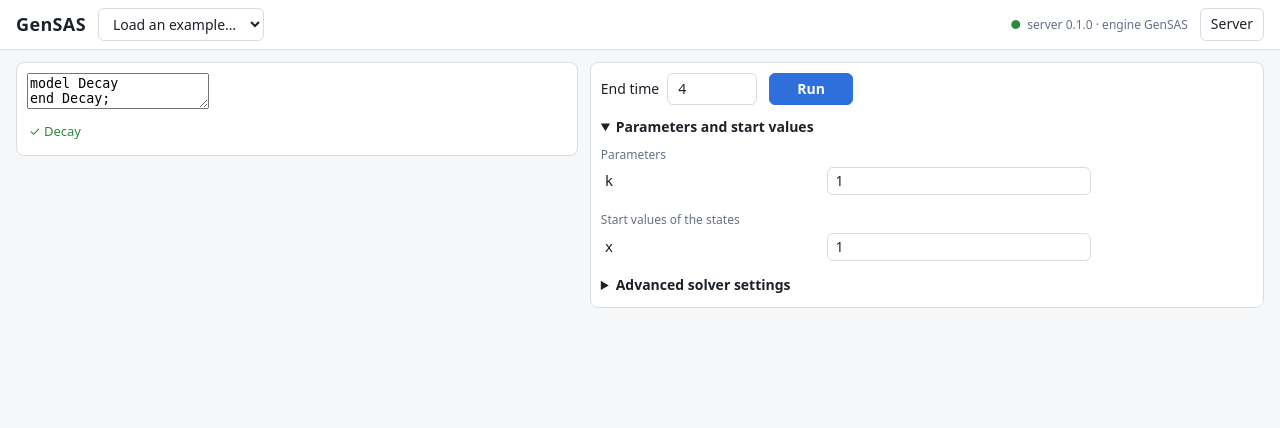
Test: App › shows why a run failed
Step 1. Click the button "Run" → [811, 89], box top-left (769, 73), bottom-right (853, 105)
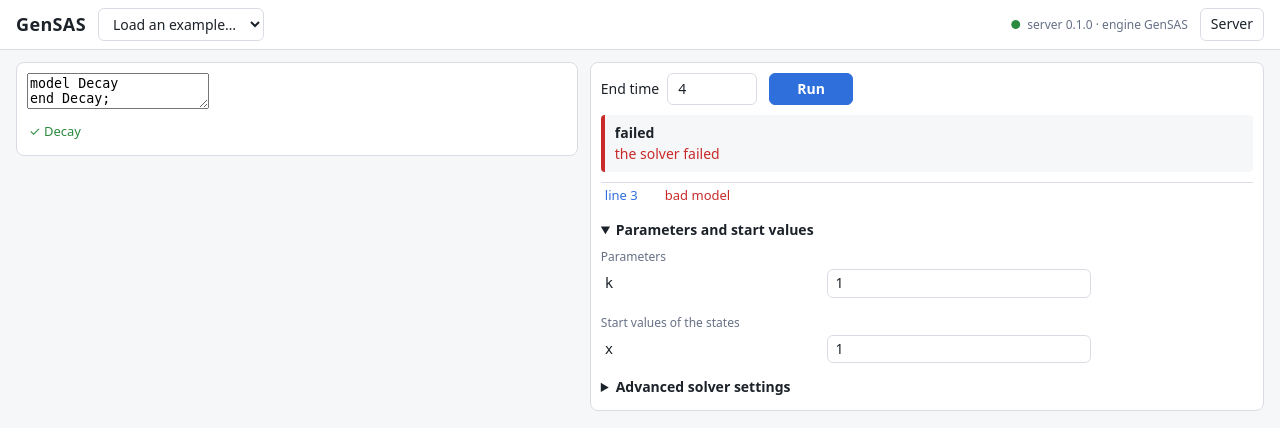
Expected: the element with class "failed" shows "the solver failed", top-left (615, 144), bottom-right (720, 163)
Expected: the text "bad model" is shown, top-left (665, 186), bottom-right (730, 205)
